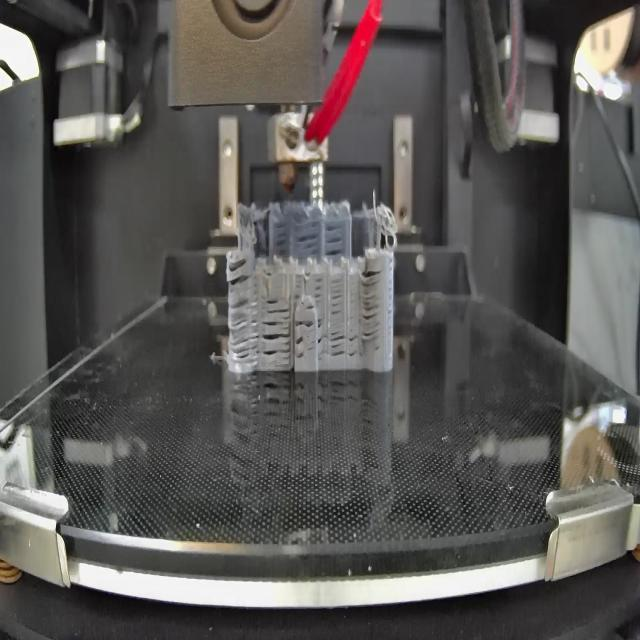cracks: (229, 298, 260, 364), (361, 266, 382, 346), (263, 320, 292, 364), (295, 218, 321, 257), (330, 330, 360, 360), (228, 250, 251, 286), (326, 220, 344, 256), (271, 220, 291, 252), (330, 277, 343, 319), (317, 317, 327, 360), (292, 272, 304, 299), (267, 299, 287, 315), (294, 337, 305, 362), (296, 318, 315, 331), (314, 278, 323, 300), (304, 302, 316, 311)
